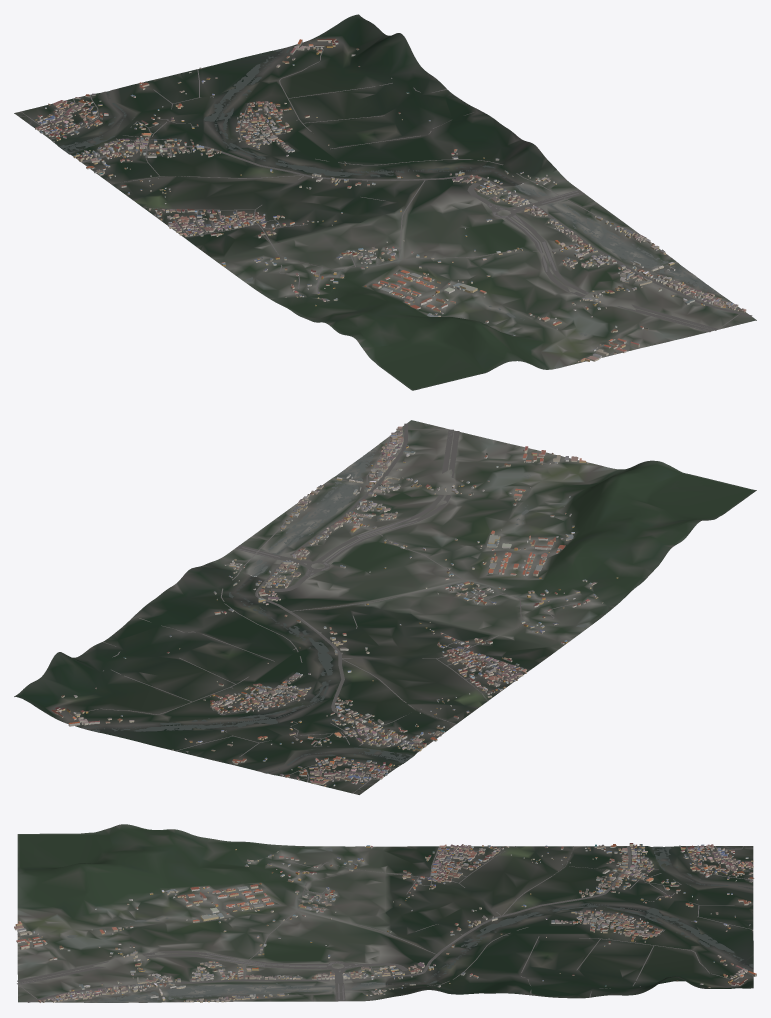
3 views of the same model, one above another, from view 1: azimuth 30°, elevation 25°; view 2: azimuth 150°, elevation 25°; view 3: azimuth 270°, elevation 25° (orthographic). The views are drawn at different scales.
Visible parts, largest first — view 1: ground, buildings, roads, water; view 2: ground, buildings, roads, water; view 3: ground, buildings, roads, water.
Part boxes in pixels (bbox=[...]): ground: bbox=[14, 14, 756, 390]; buildings: bbox=[34, 38, 746, 362]; roads: bbox=[19, 42, 752, 356]; water: bbox=[59, 46, 720, 335]; ground: bbox=[14, 420, 756, 794]; buildings: bbox=[51, 426, 618, 786]; roads: bbox=[76, 423, 577, 793]; water: bbox=[83, 446, 586, 773]; ground: bbox=[17, 824, 753, 1002]; buildings: bbox=[14, 843, 756, 1002]; roads: bbox=[17, 846, 753, 1002]; water: bbox=[67, 846, 753, 1002].
Size of the model in its own units: 1423 by 121 by 2831.
